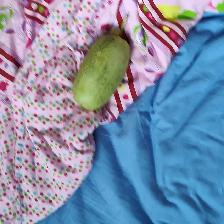gua: (80, 25, 125, 108)
